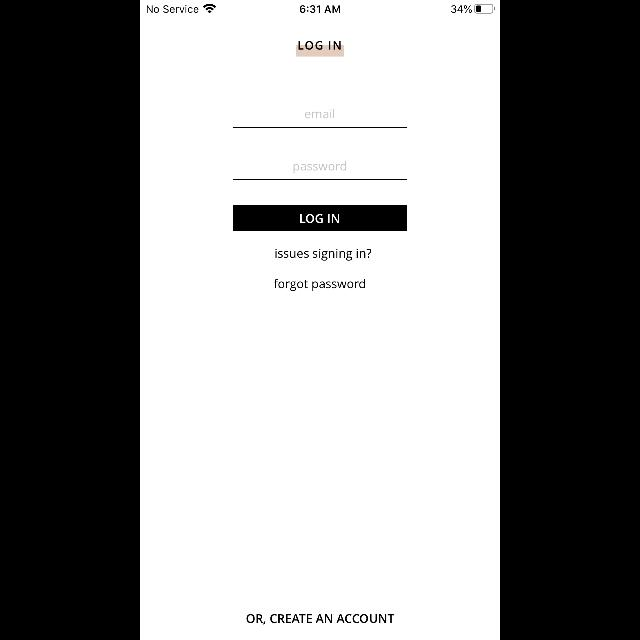input: (234, 162, 406, 180), (234, 110, 406, 128)
text: (274, 279, 366, 291), (270, 614, 394, 622), (276, 250, 370, 260), (294, 162, 346, 174), (299, 42, 341, 50), (305, 110, 335, 118), (247, 614, 266, 624)
textbutton: (234, 206, 406, 232)
uppertaskbar: (140, 0, 500, 14)
